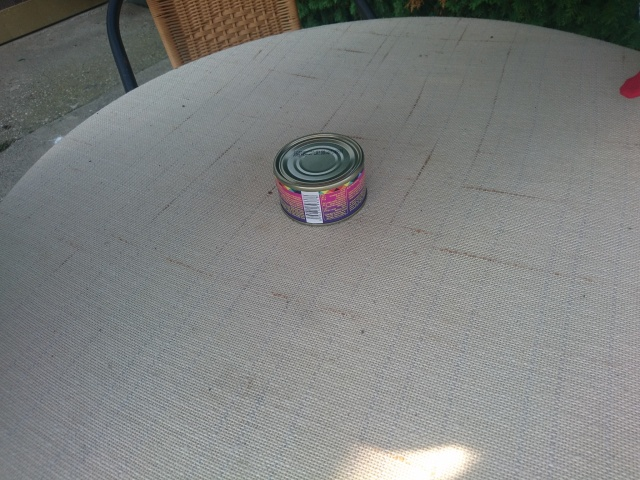Giana Tuna Salad Mexico 185g: (269, 129, 369, 228)
